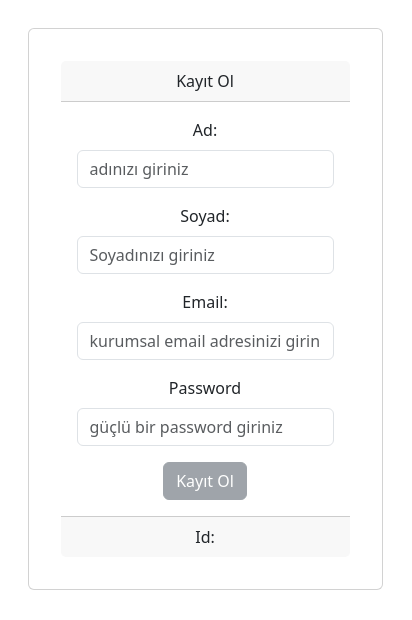
Test: Register Page › Error Mesages › name input throws error for 2 chars
Type "te" into the field with test id "ad-input" at point(206, 169), box left=77, top=150, right=334, bottom=188
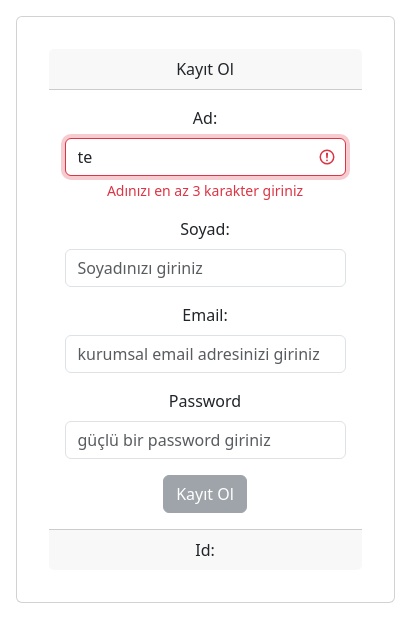
expect the text "Adınızı en az 3 karakter giriniz" is shown: met, box left=107, top=180, right=303, bottom=200
